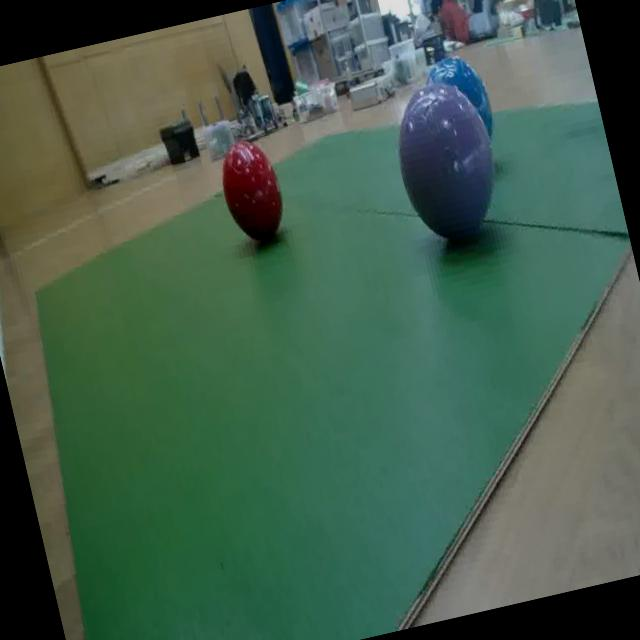blue_ball: (416, 50, 504, 160)
purple_ball: (382, 74, 518, 268)
red_ball: (202, 118, 297, 258)
